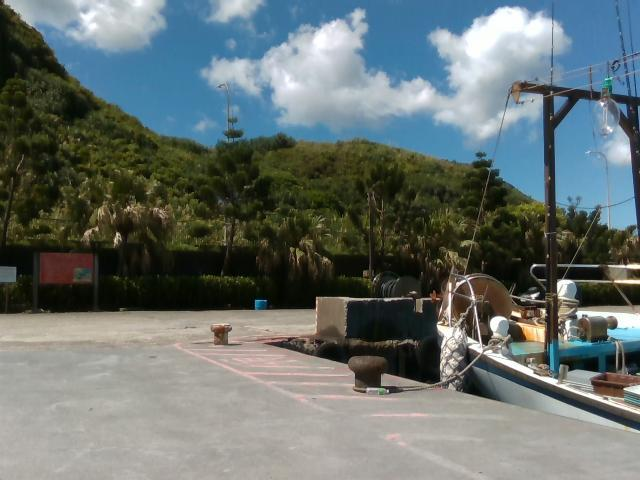pollute: (253, 298, 269, 311)
